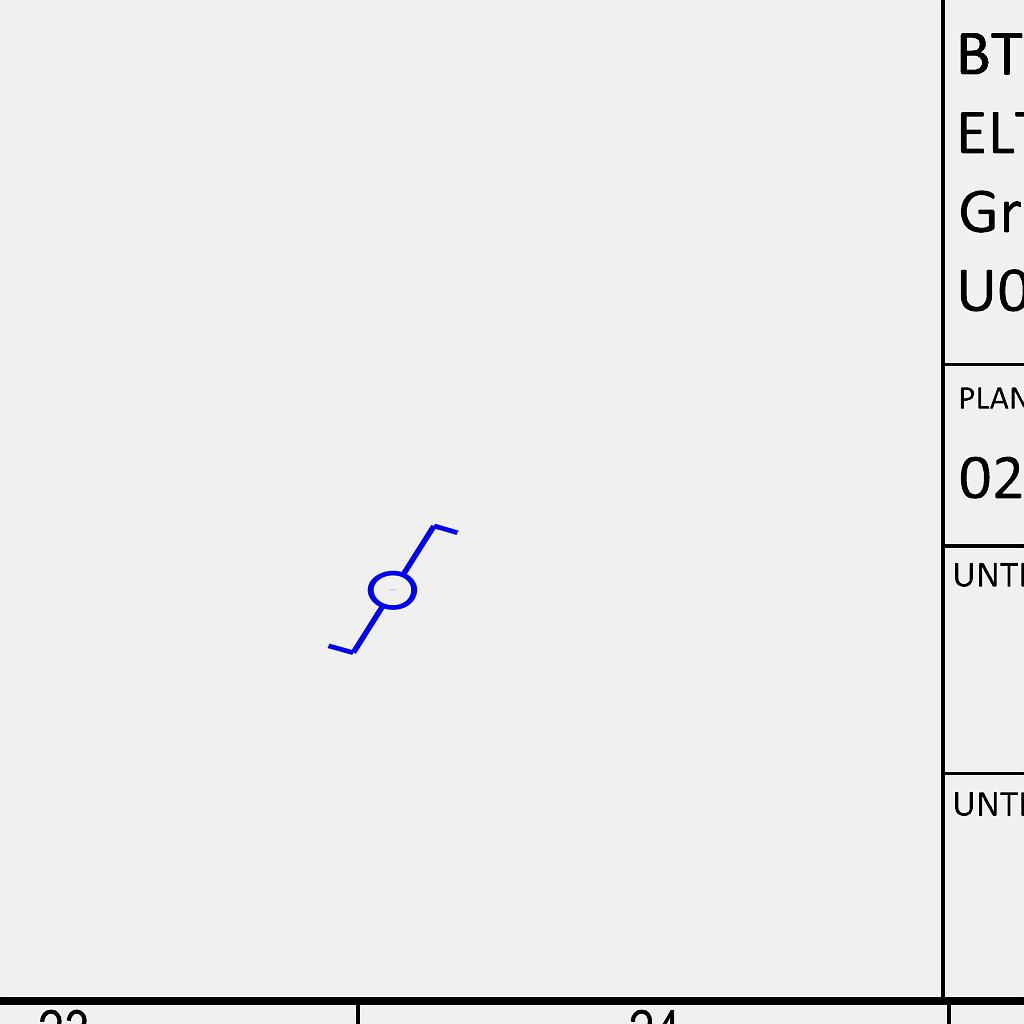Wechselschalter: (306, 516, 463, 660)
